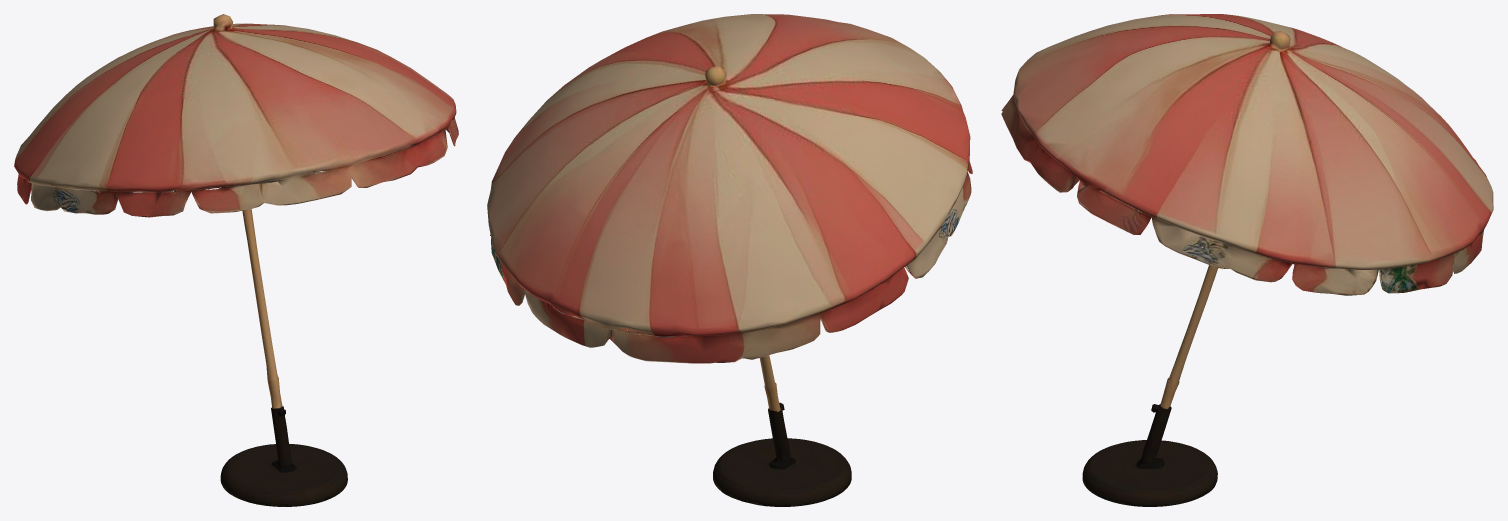
Rendered from lib-umbrella.glb.
3 renders of one model, left to right at view 1: azimuth 30°, elevation 25°; view 2: azimuth 150°, elevation 25°; view 3: azimuth 270°, elevation 25°, orthographic. The views are drawn at different scales.
Parts seen in each view (by area): view 1: tripo_node_0b23dc8d-879a-4d3a-9651-4d853bd0cbdd; view 2: tripo_node_0b23dc8d-879a-4d3a-9651-4d853bd0cbdd; view 3: tripo_node_0b23dc8d-879a-4d3a-9651-4d853bd0cbdd.
Boxes of the visible parts, left/top/right/bottom form: tripo_node_0b23dc8d-879a-4d3a-9651-4d853bd0cbdd: left=14, top=14, right=458, bottom=506; tripo_node_0b23dc8d-879a-4d3a-9651-4d853bd0cbdd: left=487, top=14, right=972, bottom=506; tripo_node_0b23dc8d-879a-4d3a-9651-4d853bd0cbdd: left=1001, top=14, right=1493, bottom=506.
Size of the model in its own units: 0.9492 by 1 by 1.
Materials: 1 (1 with a texture image).
